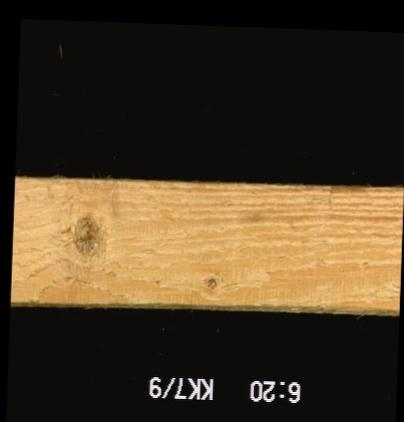small_knot: (199, 271, 221, 293)
sound_knot: (66, 209, 107, 264)
